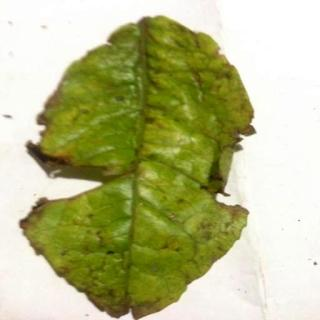Red Leaf Spot: (22, 16, 252, 314)
